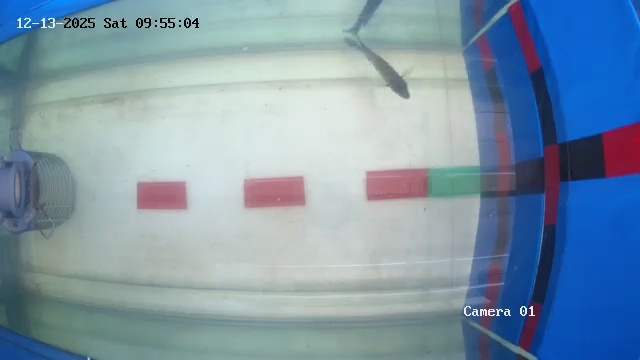fish: (347, 39, 420, 110)
